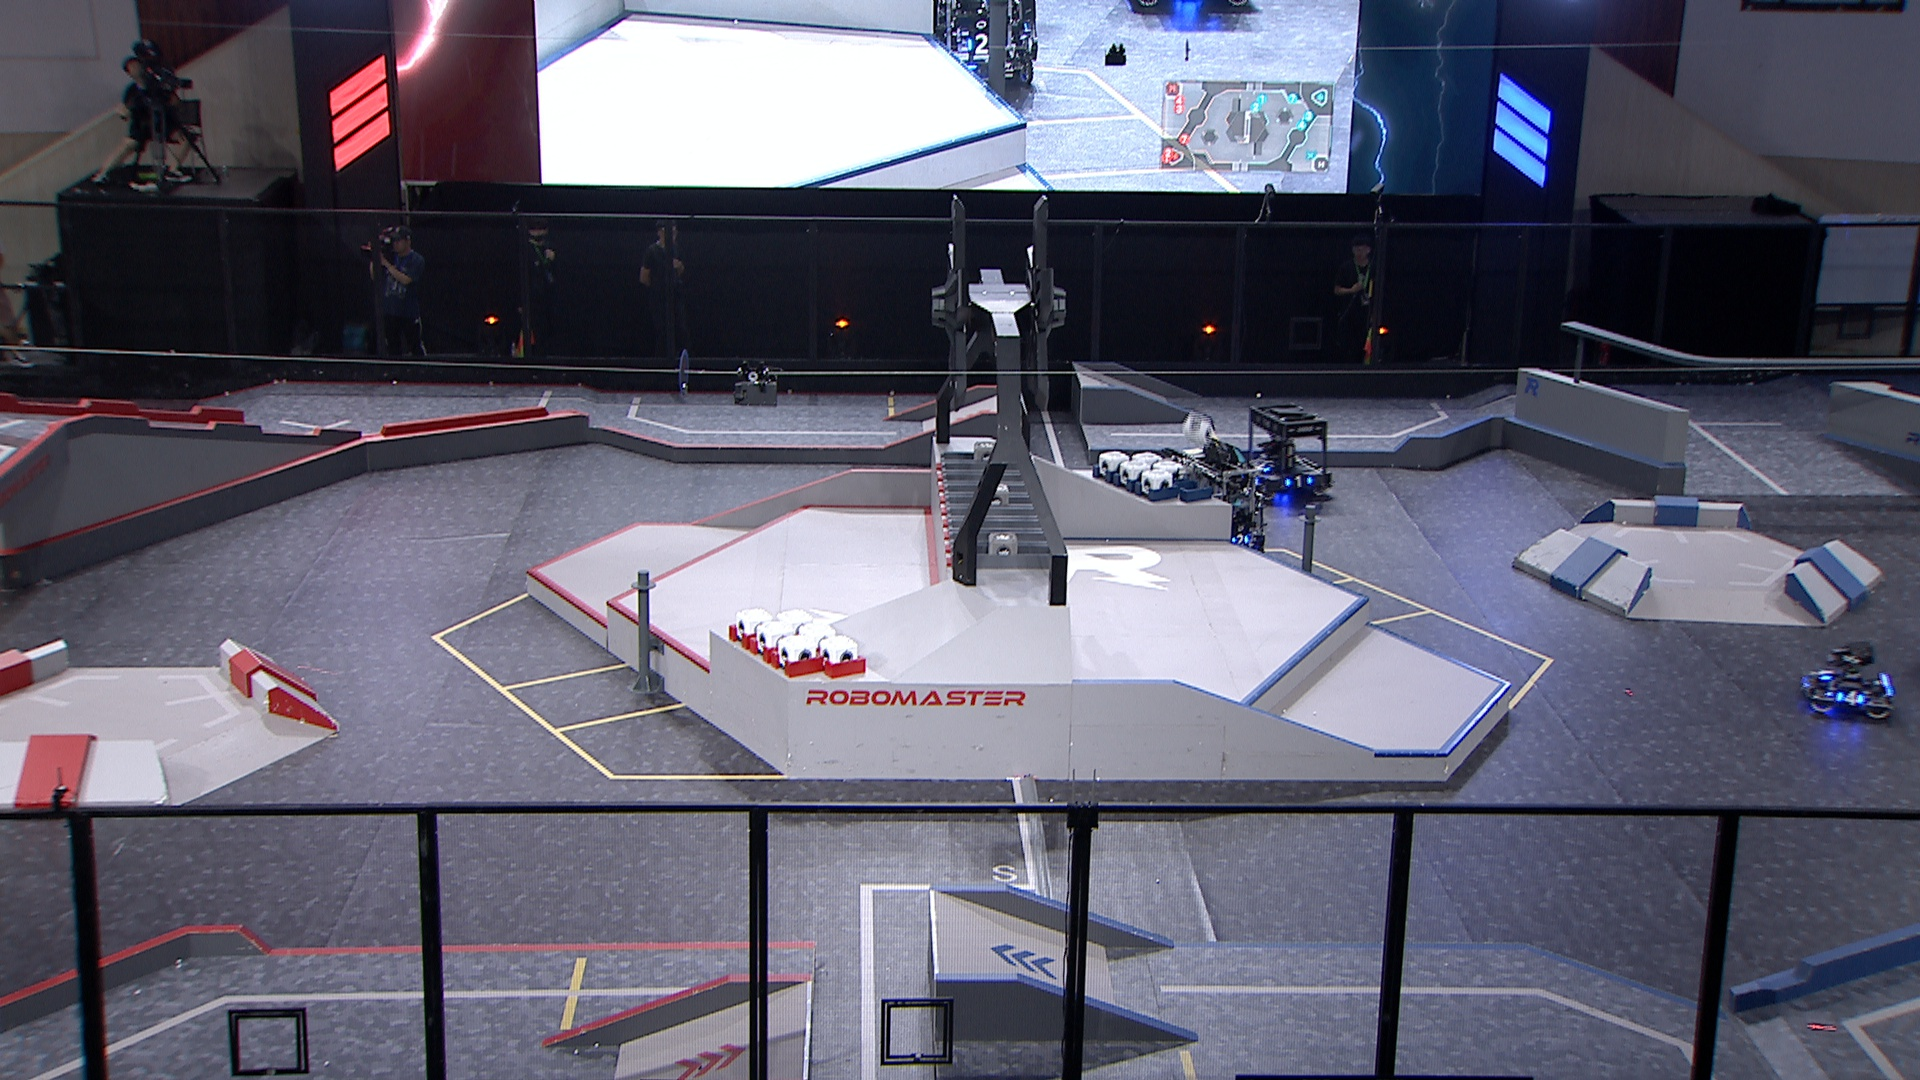armor: (1836, 690, 1866, 708), (1284, 475, 1316, 489), (1813, 665, 1836, 680), (1230, 531, 1250, 549), (1253, 462, 1273, 473)
car: (1158, 438, 1267, 564), (1799, 640, 1899, 723), (1245, 404, 1333, 496)
